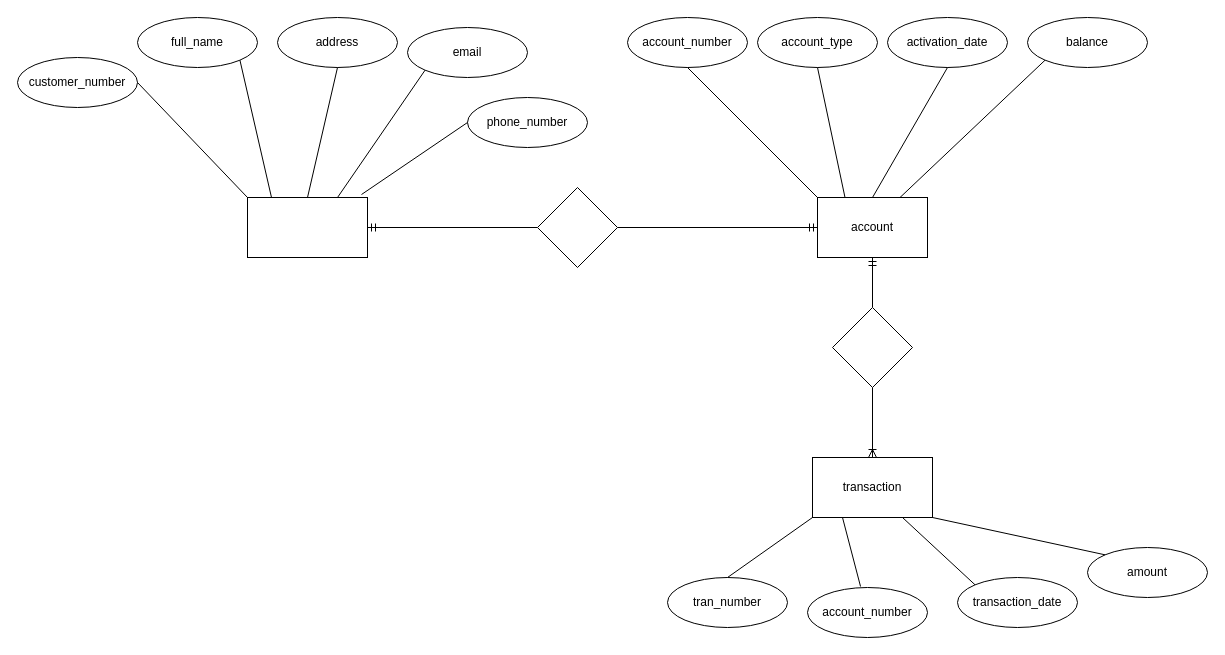
The diagram is 1225 pixels wide and 655 high, and some of its shapes have lost their labels. The box of each missing label's shape, as (x1, y1, x2, y2) in pixels:
Customer: (246, 196, 368, 258)
do: (832, 306, 912, 388)
have: (536, 186, 618, 268)
